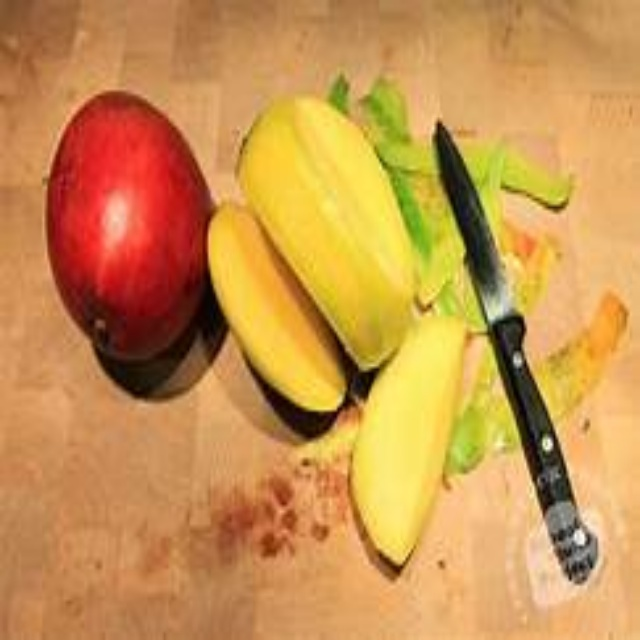mango: (201, 91, 411, 416), (47, 97, 209, 361), (354, 303, 477, 566)
